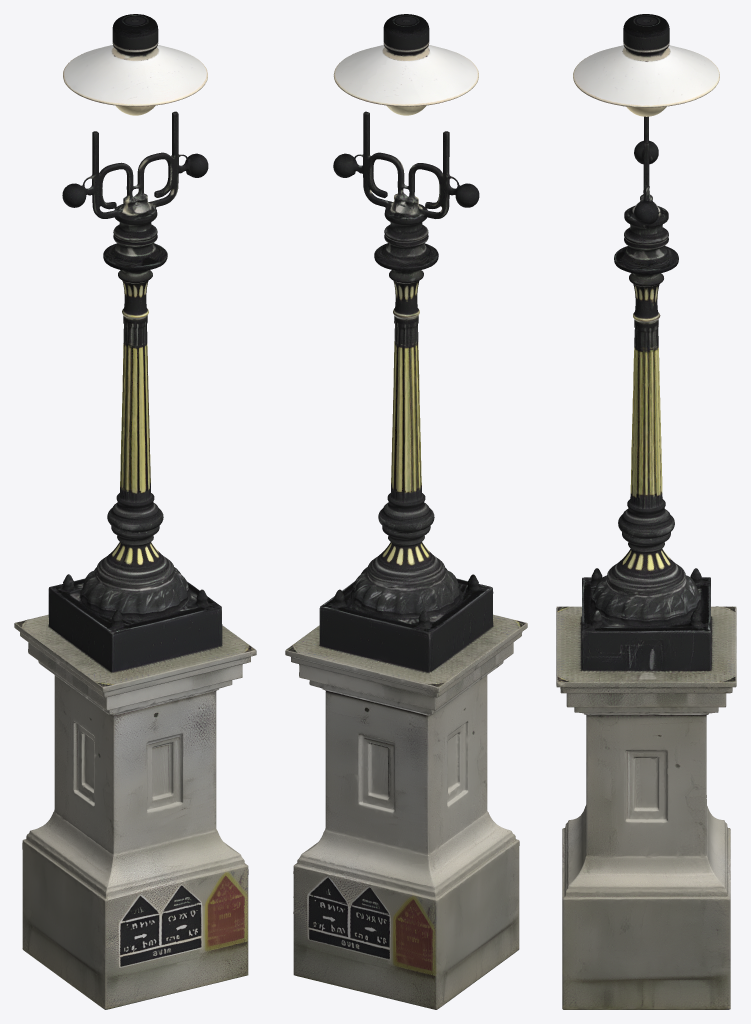
Rendered from duddell.glb.
3 renders of one model, left to right at view 1: azimuth 30°, elevation 25°; view 2: azimuth 150°, elevation 25°; view 3: azimuth 270°, elevation 25°, orthographic.
Visible parts, largest first — view 1: mesh_node; view 2: mesh_node; view 3: mesh_node.
Part boxes in pixels (x1,y1,x2,y2): mesh_node: (14, 14, 256, 1009); mesh_node: (285, 14, 527, 1009); mesh_node: (556, 14, 736, 1009).
Size of the model in its own units: 0.3256 by 1.9 by 0.3255.
1 material, 1 textured.
